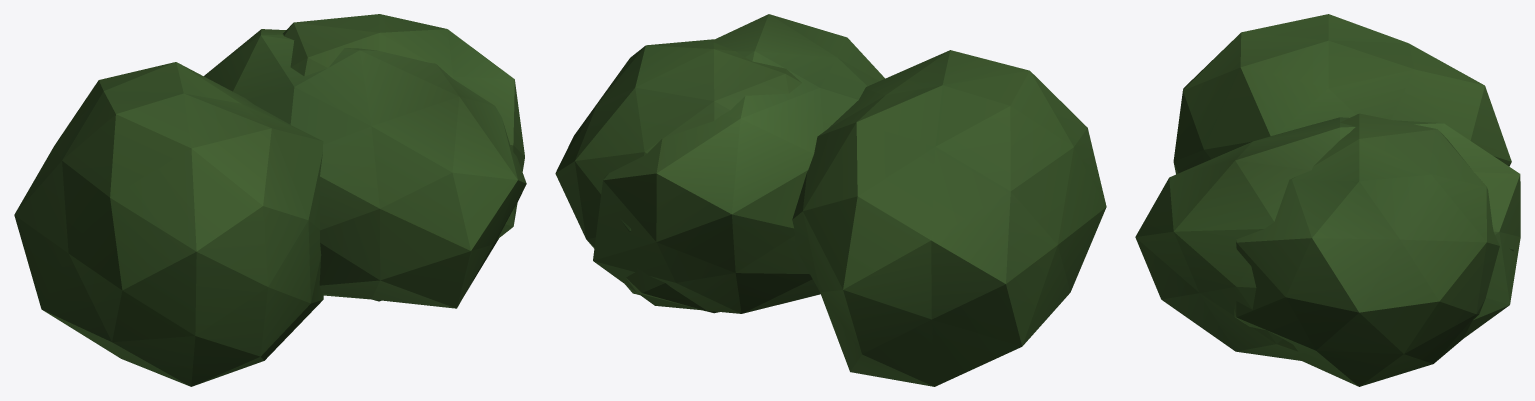
The model's file is veg_buske_2.glb.
3 views of the same model, side by side, from view 1: azimuth 30°, elevation 25°; view 2: azimuth 150°, elevation 25°; view 3: azimuth 270°, elevation 25° (orthographic). The views are drawn at different scales.
Parts seen in each view (by area): view 1: geometry_0; view 2: geometry_0; view 3: geometry_0.
Boxes of the visible parts, x1=… form: geometry_0: x1=14, y1=14, x2=526, y2=386; geometry_0: x1=555, y1=14, x2=1106, y2=386; geometry_0: x1=1135, y1=14, x2=1520, y2=386.
Bounding box in the file's own units: 1.81 × 1 × 1.4.
